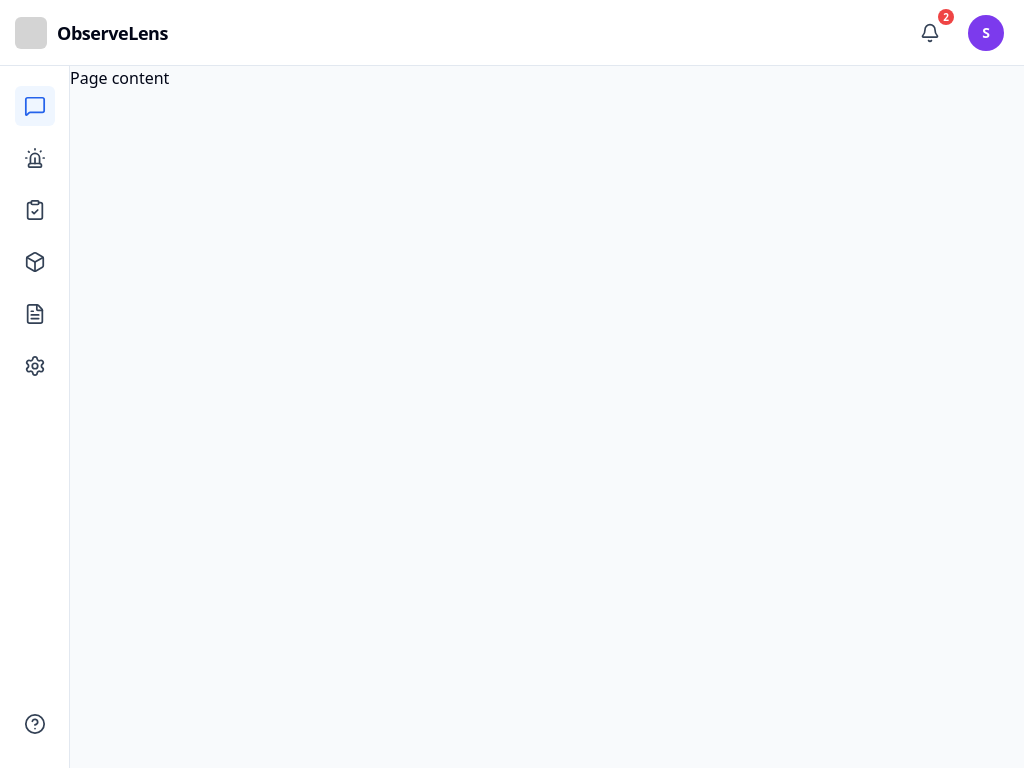
Test case: AppShell notifications › marks all notifications as read and persists the change
Click the button named "notifications, 2 unread" at (930,32), box [912,14,948,50]
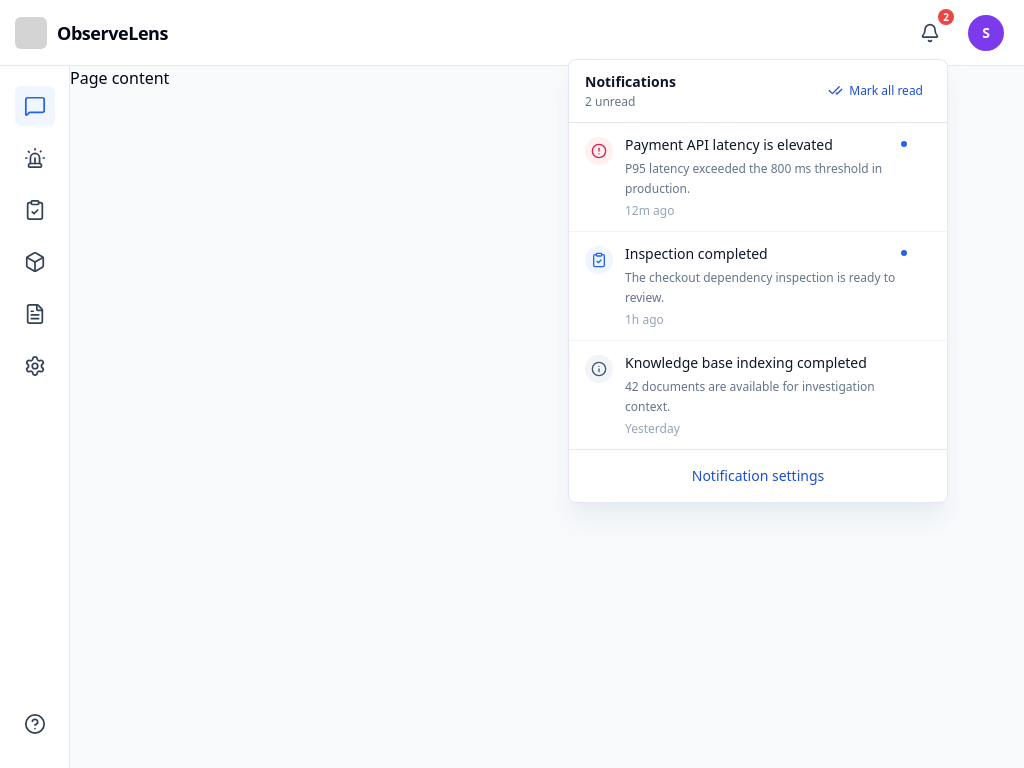
Check: the dialog "Notifications" is shown, box [568,58,948,502]
Click the button "Mark all read" at (876,90), box [820,78,931,102]
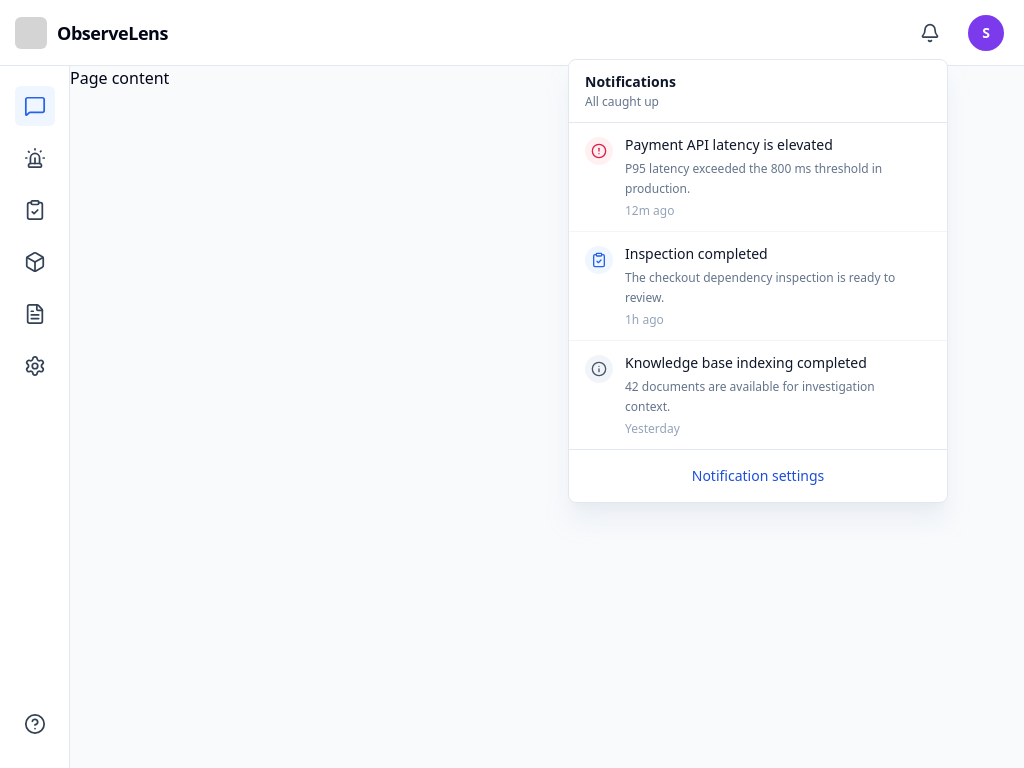
Check: the text "All caught up" is shown, box [585,92,659,110]
